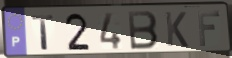2: (64, 12, 92, 52)
4: (98, 12, 124, 51)
B: (126, 10, 160, 52)
F: (196, 10, 222, 48)
K: (163, 10, 190, 49)
T: (30, 14, 56, 51)
